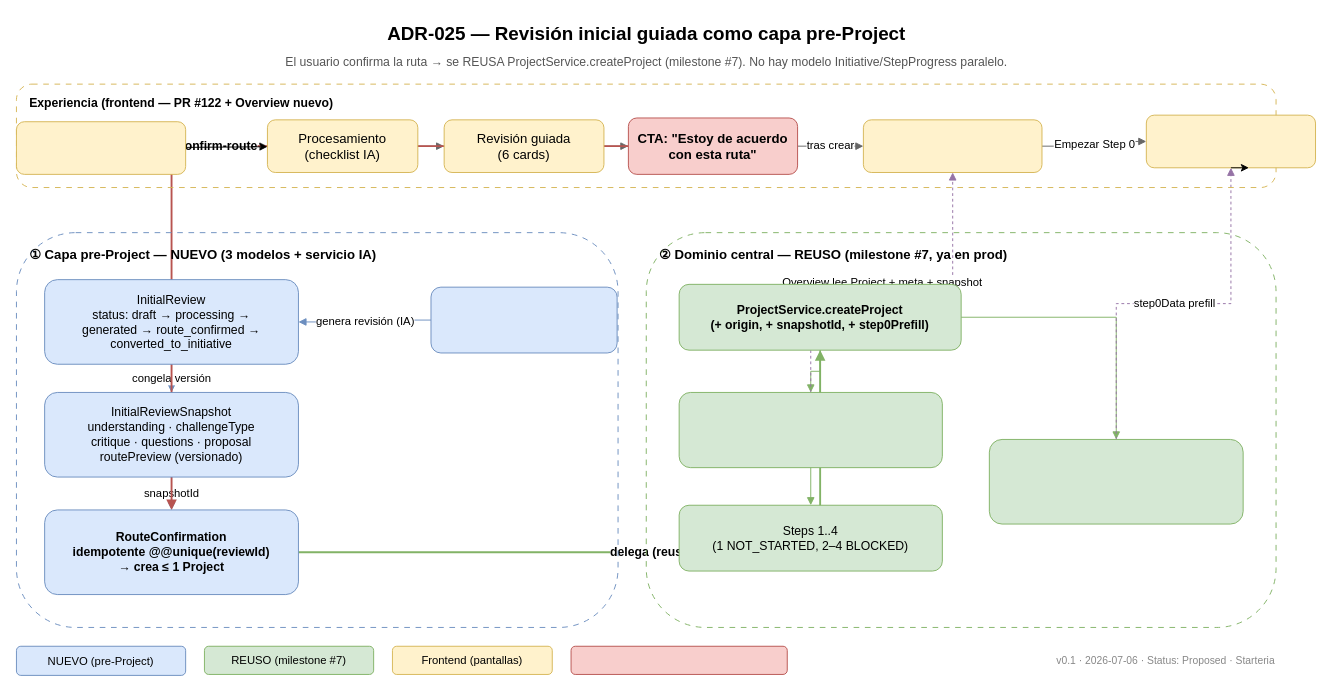
The diagram is 1332 pixels wide and 692 high, and some of its shapes have lost their labels. Each missing label, with the centre of its shape:
"/initiatives/new Entrada inicial" belongs at pixel 101 147.
"AIInitialCritiqueService bridge IA + guardrails §25" belongs at pixel 523 319.
"InitiativePortfolioMeta status = en_step_0 (portfolio-lead ADR-023/024)" belongs at pixel 1115 481.
"Overview /initiatives/:id/overview" belongs at pixel 952 145.
"Project (Draft) + origin = from_initial_review + initialReviewSnapshotId" belongs at pixel 810 430.
"Punto de decisión (crea el Project)" belongs at pixel 678 659.
"Step 0 precargado (no aprobado)" belongs at pixel 1230 141.
